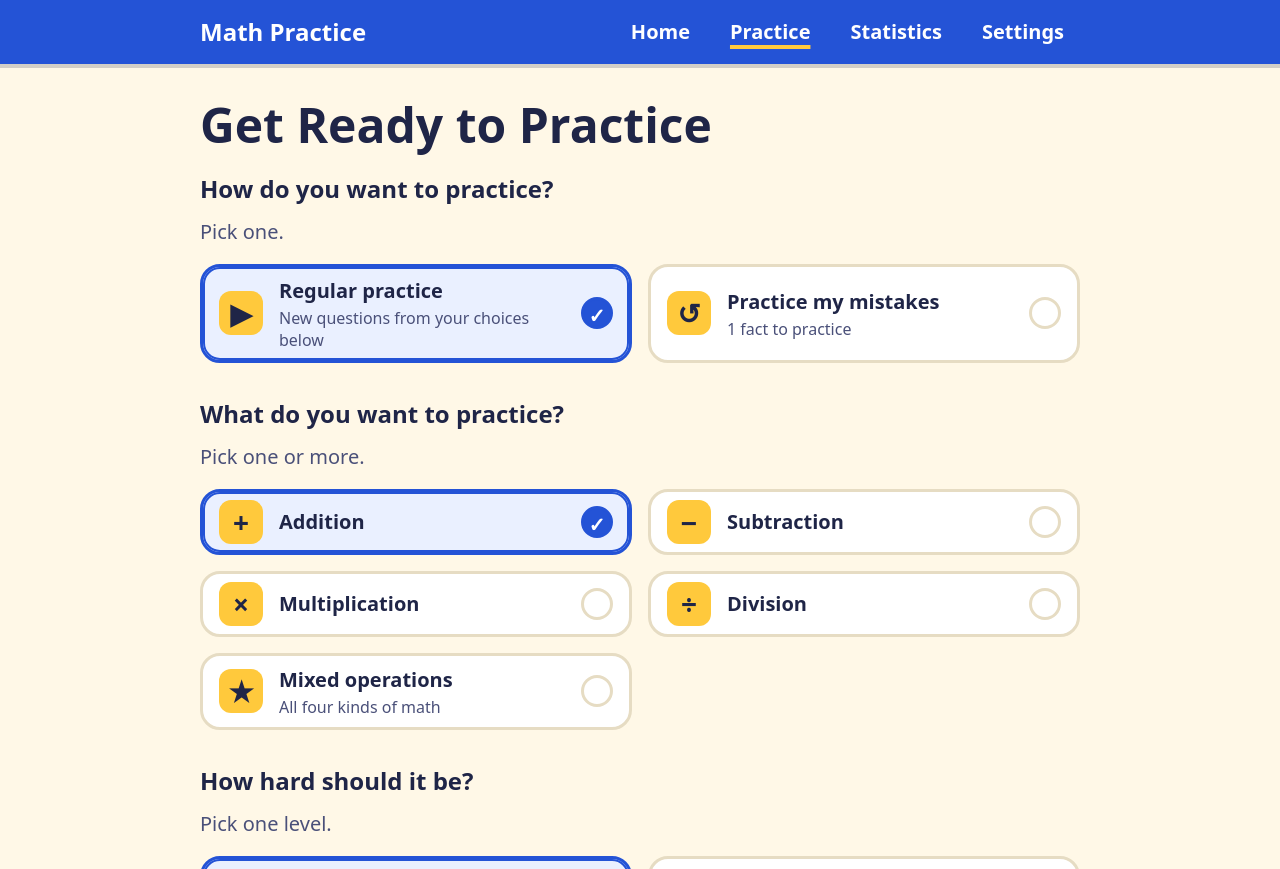
Test: PracticeSetupPage › mode › re-enables the math and level choices when switching back to regular practice
Click the radio button labelled "↺ Practice my mistakes 1 fact to practice" at (864, 313), box [648,264,1080,363]
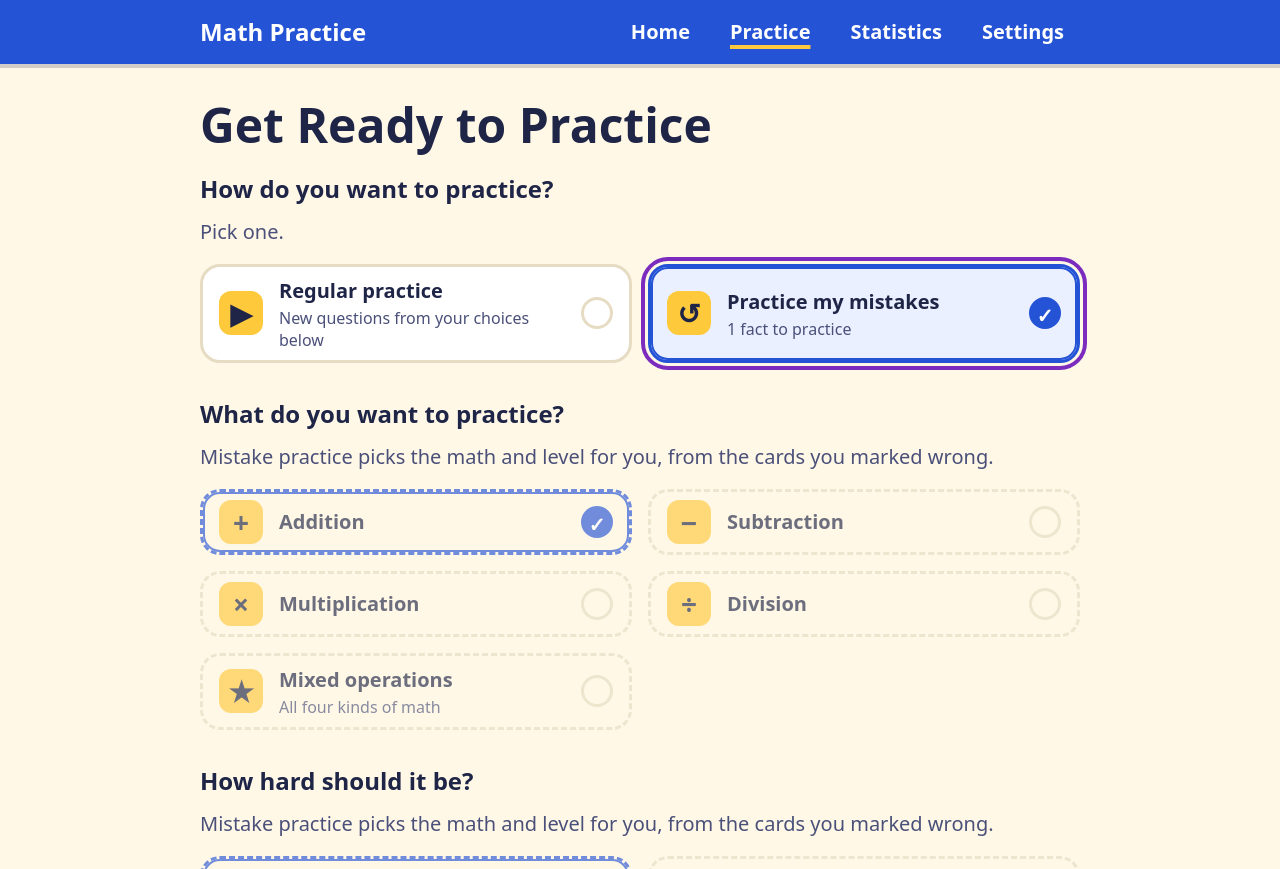
Click the radio button labelled "▶ Regular practice New questions from your choices below" at (416, 313), box [200,264,632,363]
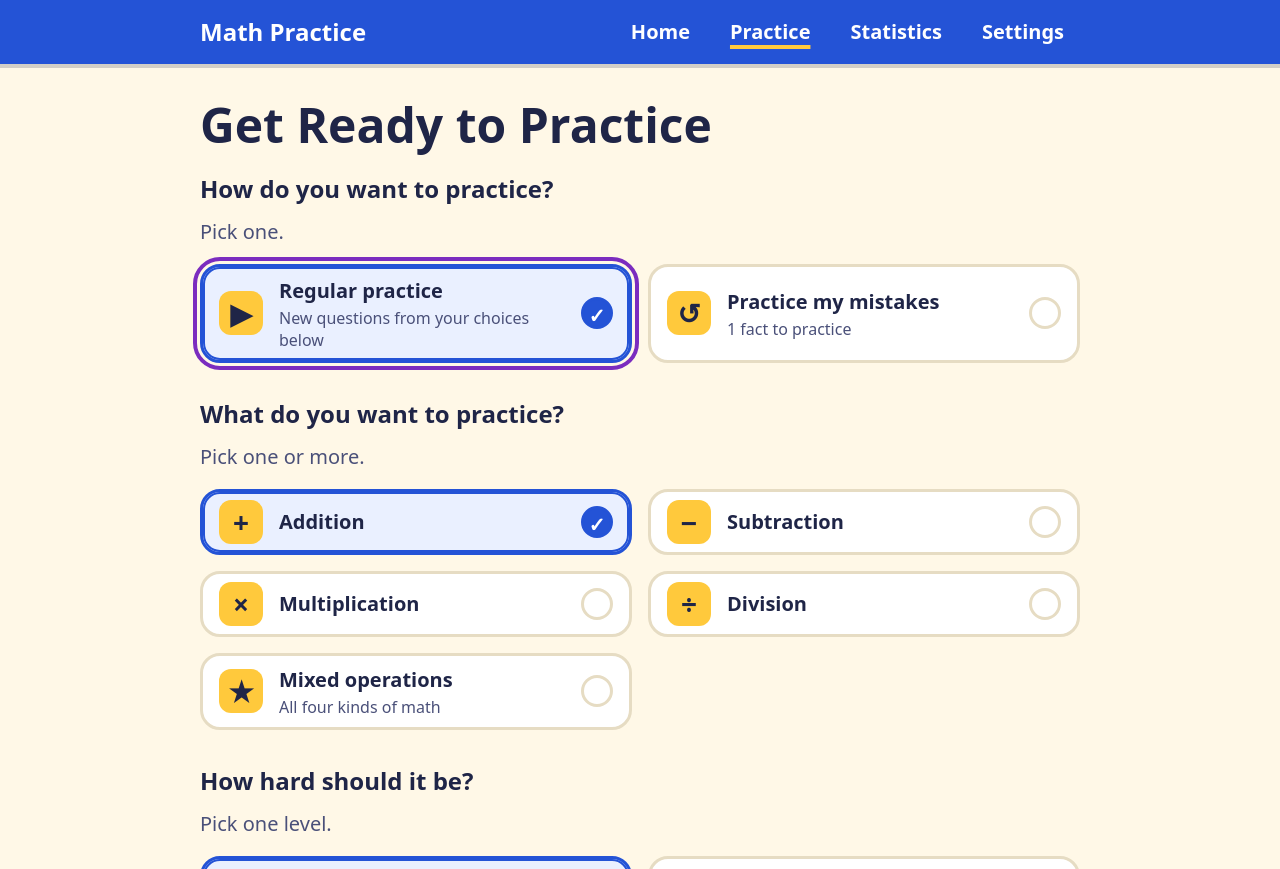
Expected: the element "What do you want to practice?" is enabled, [200,395,1080,730]
Expected: the text "Pick one or more." is shown, [200,443,364,470]
